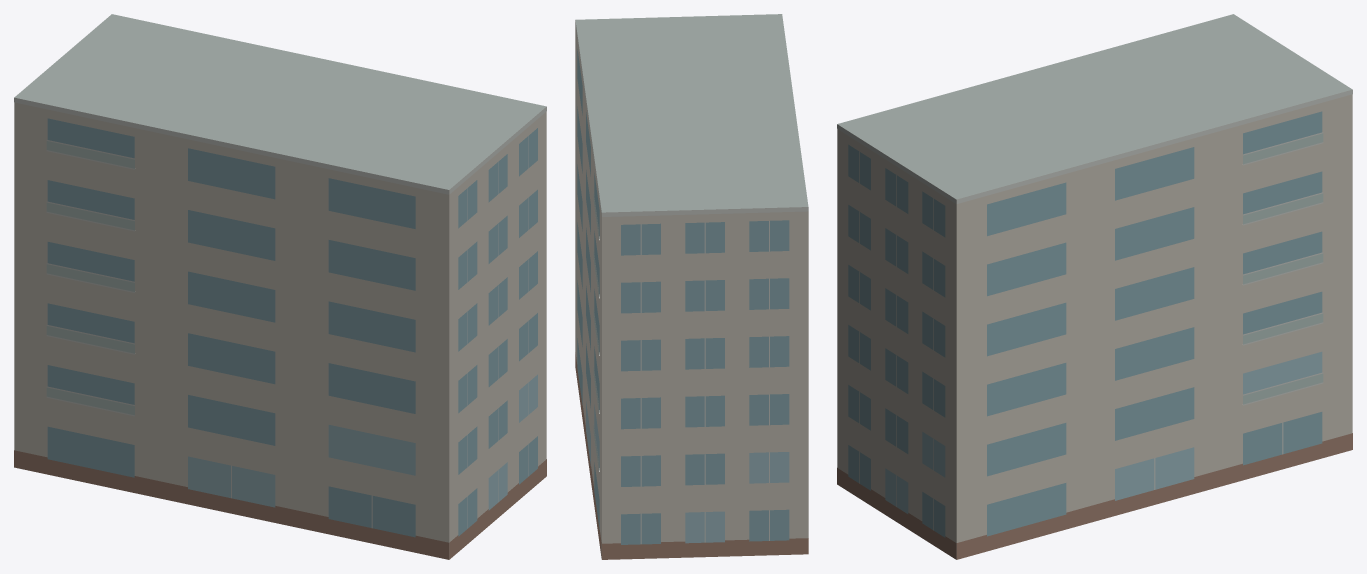
The model's file is survey-upis-32686971.glb.
3 views of the same model, side by side, from view 1: azimuth 30°, elevation 25°; view 2: azimuth 150°, elevation 25°; view 3: azimuth 270°, elevation 25° (orthographic). The views are drawn at different scales.
Visible parts, largest first — view 1: survey-upis-32686971.tmp; view 2: survey-upis-32686971.tmp; view 3: survey-upis-32686971.tmp.
Part boxes in pixels (x1,y1,x2,y2): survey-upis-32686971.tmp: (14,14,546,559); survey-upis-32686971.tmp: (575,14,808,559); survey-upis-32686971.tmp: (837,14,1352,559).
Size of the model in its own units: 20.83 by 18.85 by 24.46.
